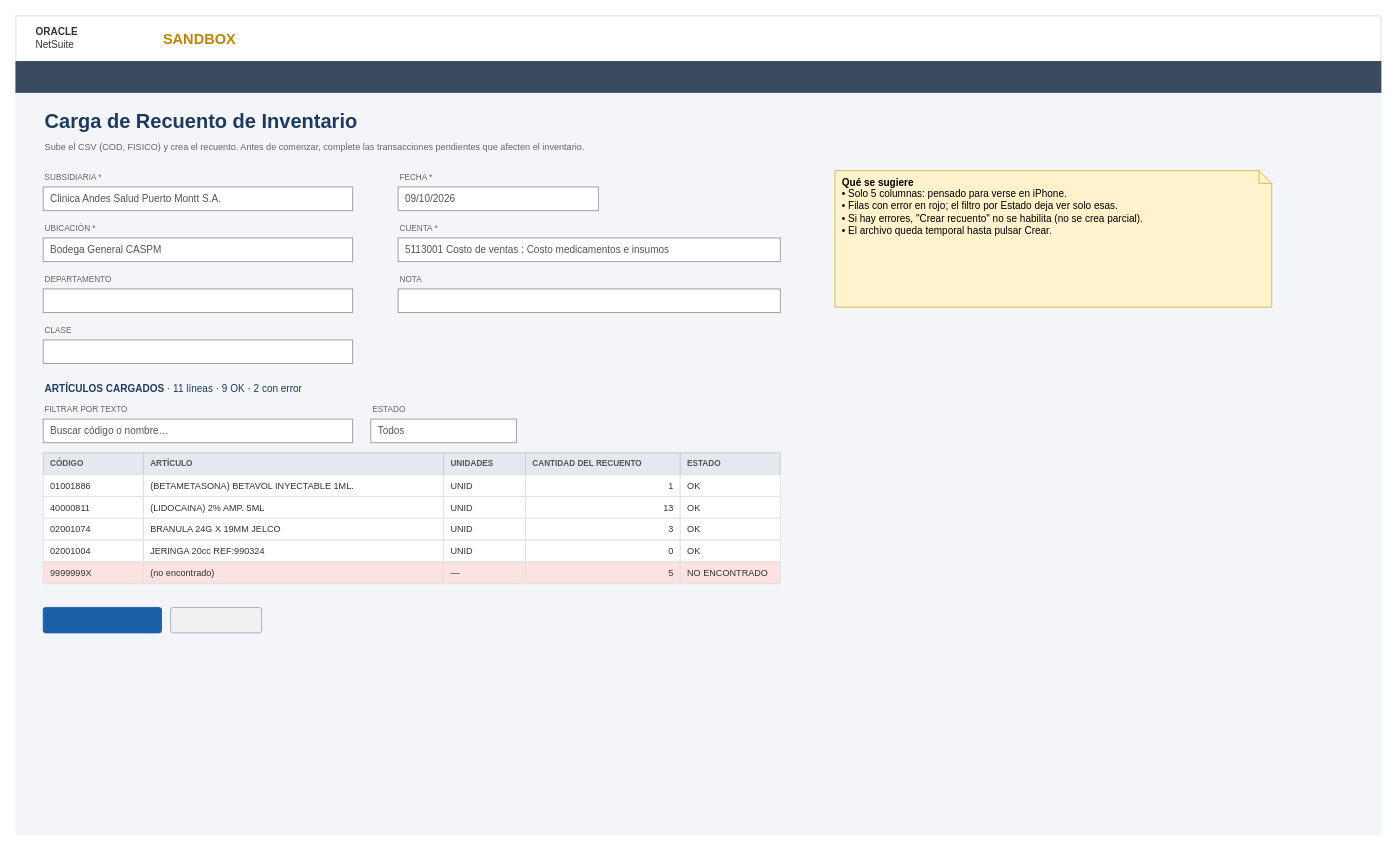
Some shapes in this 1397 by 851 pixel diagram are drawn without their labels. Here are the shapes that lost their labels. From the top down, the centre of each, then its label:
the point at 698,76: Actividades Andes Salud Transacciones Listas Informes Personalización
the point at 102,620: Crear recuento
the point at 216,620: Volver
